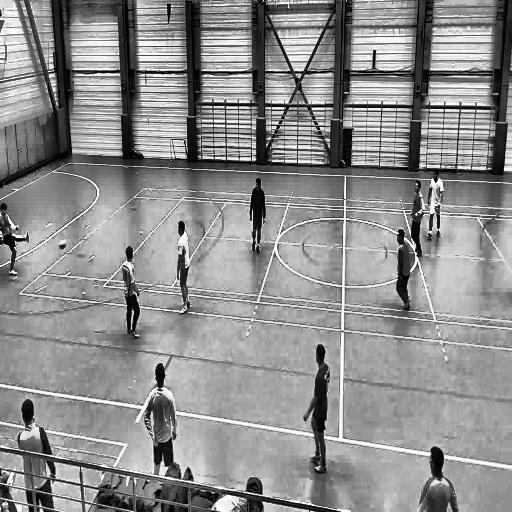ball: (59, 237, 68, 253)
player: (16, 395, 56, 511), (142, 359, 178, 474), (302, 340, 330, 477), (0, 200, 31, 278), (122, 242, 141, 342), (396, 228, 416, 318), (176, 218, 194, 316), (248, 174, 265, 257), (426, 168, 444, 245), (408, 178, 424, 261)
